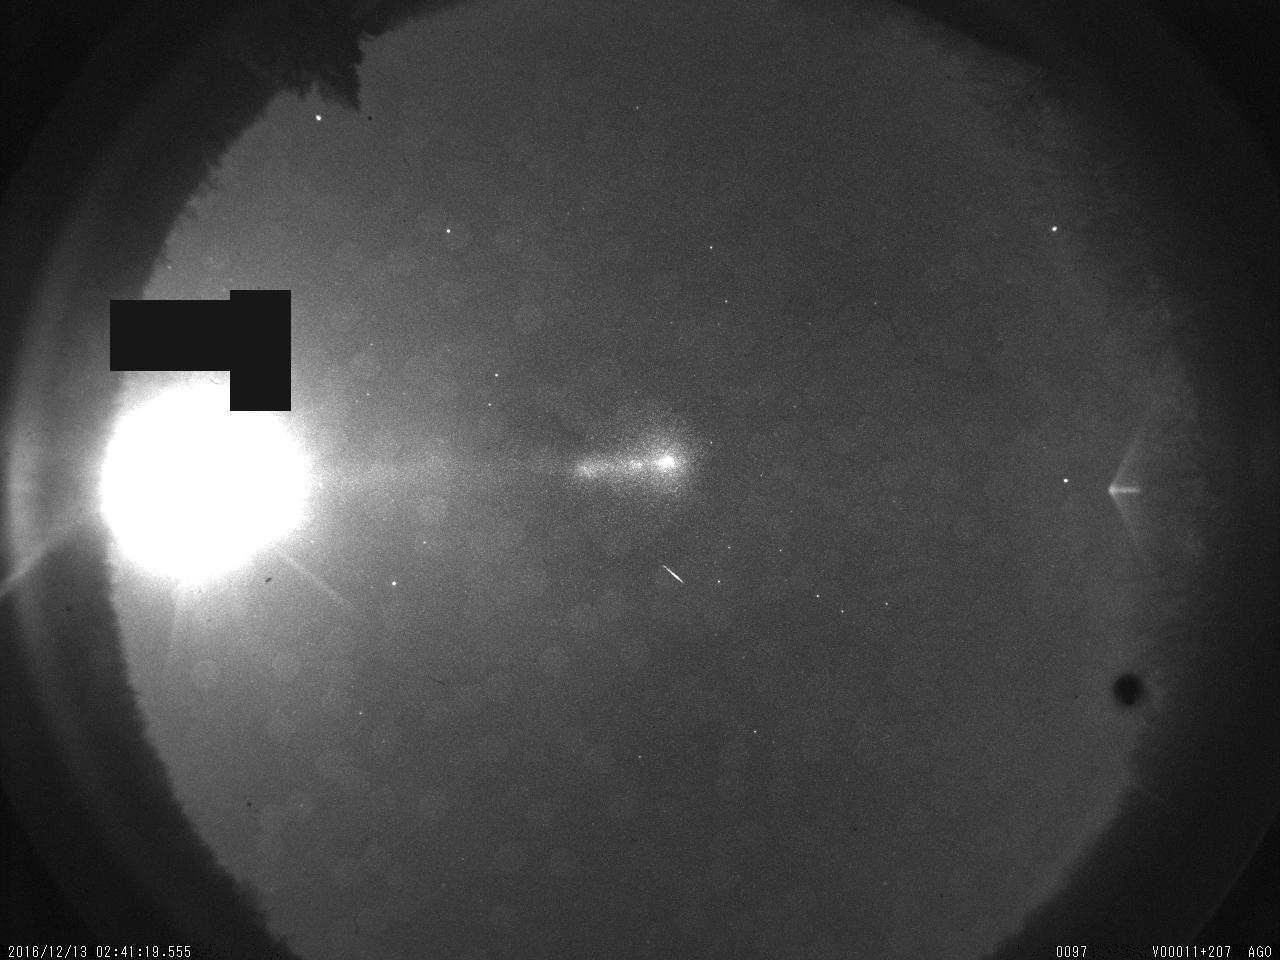Meteor: (660, 556, 690, 594)
